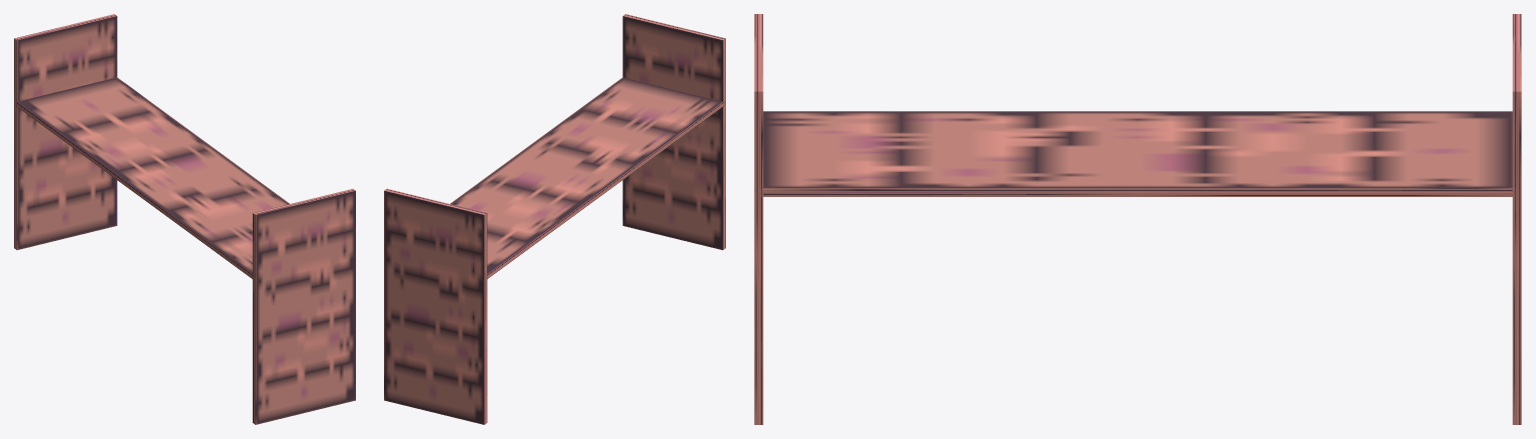
File: Shelf_1.obj
3 renders of one model, left to right at view 1: azimuth 30°, elevation 25°; view 2: azimuth 150°, elevation 25°; view 3: azimuth 270°, elevation 25°, orthographic. The views are drawn at different scales.
Parts seen in each view (by area): view 1: Shelf_1_Cube.037; view 2: Shelf_1_Cube.037; view 3: Shelf_1_Cube.037.
Boxes of the visible parts, x1,y1,x2,y2 form: Shelf_1_Cube.037: (14,14,355,424); Shelf_1_Cube.037: (384,14,725,424); Shelf_1_Cube.037: (754,14,1521,424).
Size of the model in its own units: 2 by 4 by 8.34.
